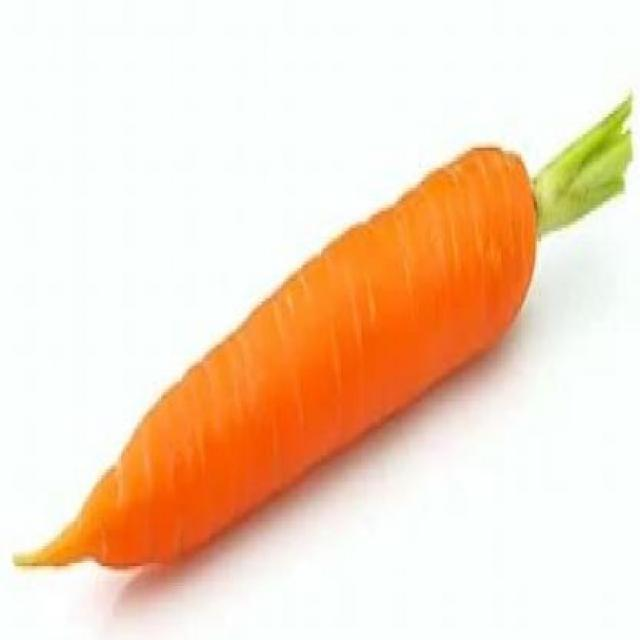carrot: (35, 142, 537, 587)
